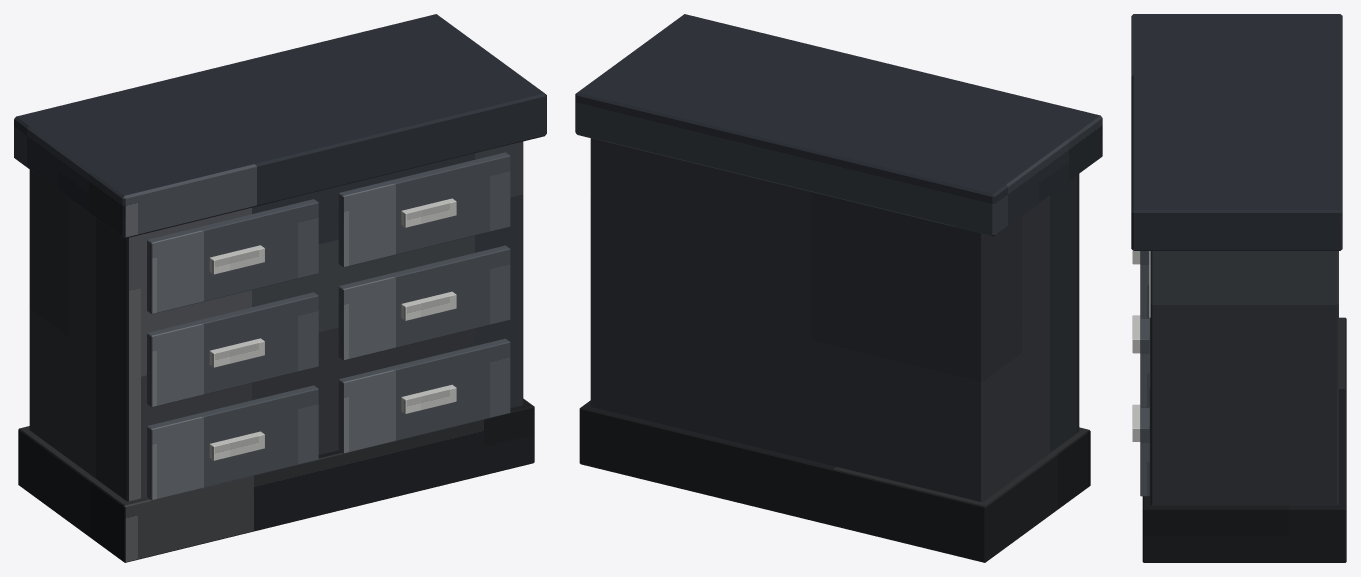
File: bedroom_dresser_charcoal.glb
3 views of the same model, side by side, from view 1: azimuth 30°, elevation 25°; view 2: azimuth 150°, elevation 25°; view 3: azimuth 270°, elevation 25° (orthographic). The views are drawn at different scales.
Parts seen in each view (by area): view 1: DresserTop, DresserBody, DresserPlinth, DresserDrawer_2_2, DresserDrawer_1_2, DresserDrawer_3_2, DresserDrawer_3_1, DresserDrawer_1_1, DresserDrawer_2_1, DresserHandle_1_1, DresserHandle_2_1, DresserHandle_3_1 (+3 smaller); view 2: DresserBody, DresserTop, DresserPlinth; view 3: DresserTop, DresserBody, DresserPlinth, DresserDrawer_2_2, DresserDrawer_3_2, DresserDrawer_1_2, DresserHandle_2_2, DresserHandle_3_2.
Part boxes in pixels (x1,y1,x2,y2): DresserTop: [14, 14, 546, 238]; DresserBody: [29, 141, 523, 501]; DresserPlinth: [18, 398, 534, 562]; DresserDrawer_2_2: [338, 245, 510, 360]; DresserDrawer_1_2: [338, 152, 510, 267]; DresserDrawer_3_2: [338, 338, 510, 453]; DresserDrawer_3_1: [147, 385, 318, 500]; DresserDrawer_1_1: [147, 199, 318, 314]; DresserDrawer_2_1: [147, 292, 318, 407]; DresserHandle_1_1: [209, 245, 264, 274]; DresserHandle_2_1: [209, 338, 264, 367]; DresserHandle_3_1: [209, 431, 264, 460]; DresserBody: [590, 138, 1079, 501]; DresserTop: [575, 14, 1102, 236]; DresserPlinth: [579, 400, 1090, 562]; DresserTop: [1131, 14, 1342, 250]; DresserBody: [1150, 251, 1338, 505]; DresserPlinth: [1142, 317, 1346, 562]; DresserDrawer_2_2: [1140, 318, 1149, 407]; DresserDrawer_3_2: [1140, 407, 1149, 496]; DresserDrawer_1_2: [1140, 251, 1149, 318]; DresserHandle_2_2: [1132, 316, 1140, 353]; DresserHandle_3_2: [1132, 404, 1140, 441].
Size of the model in its own units: 1.24 by 1.04 by 0.57.
1 material, 1 textured.
